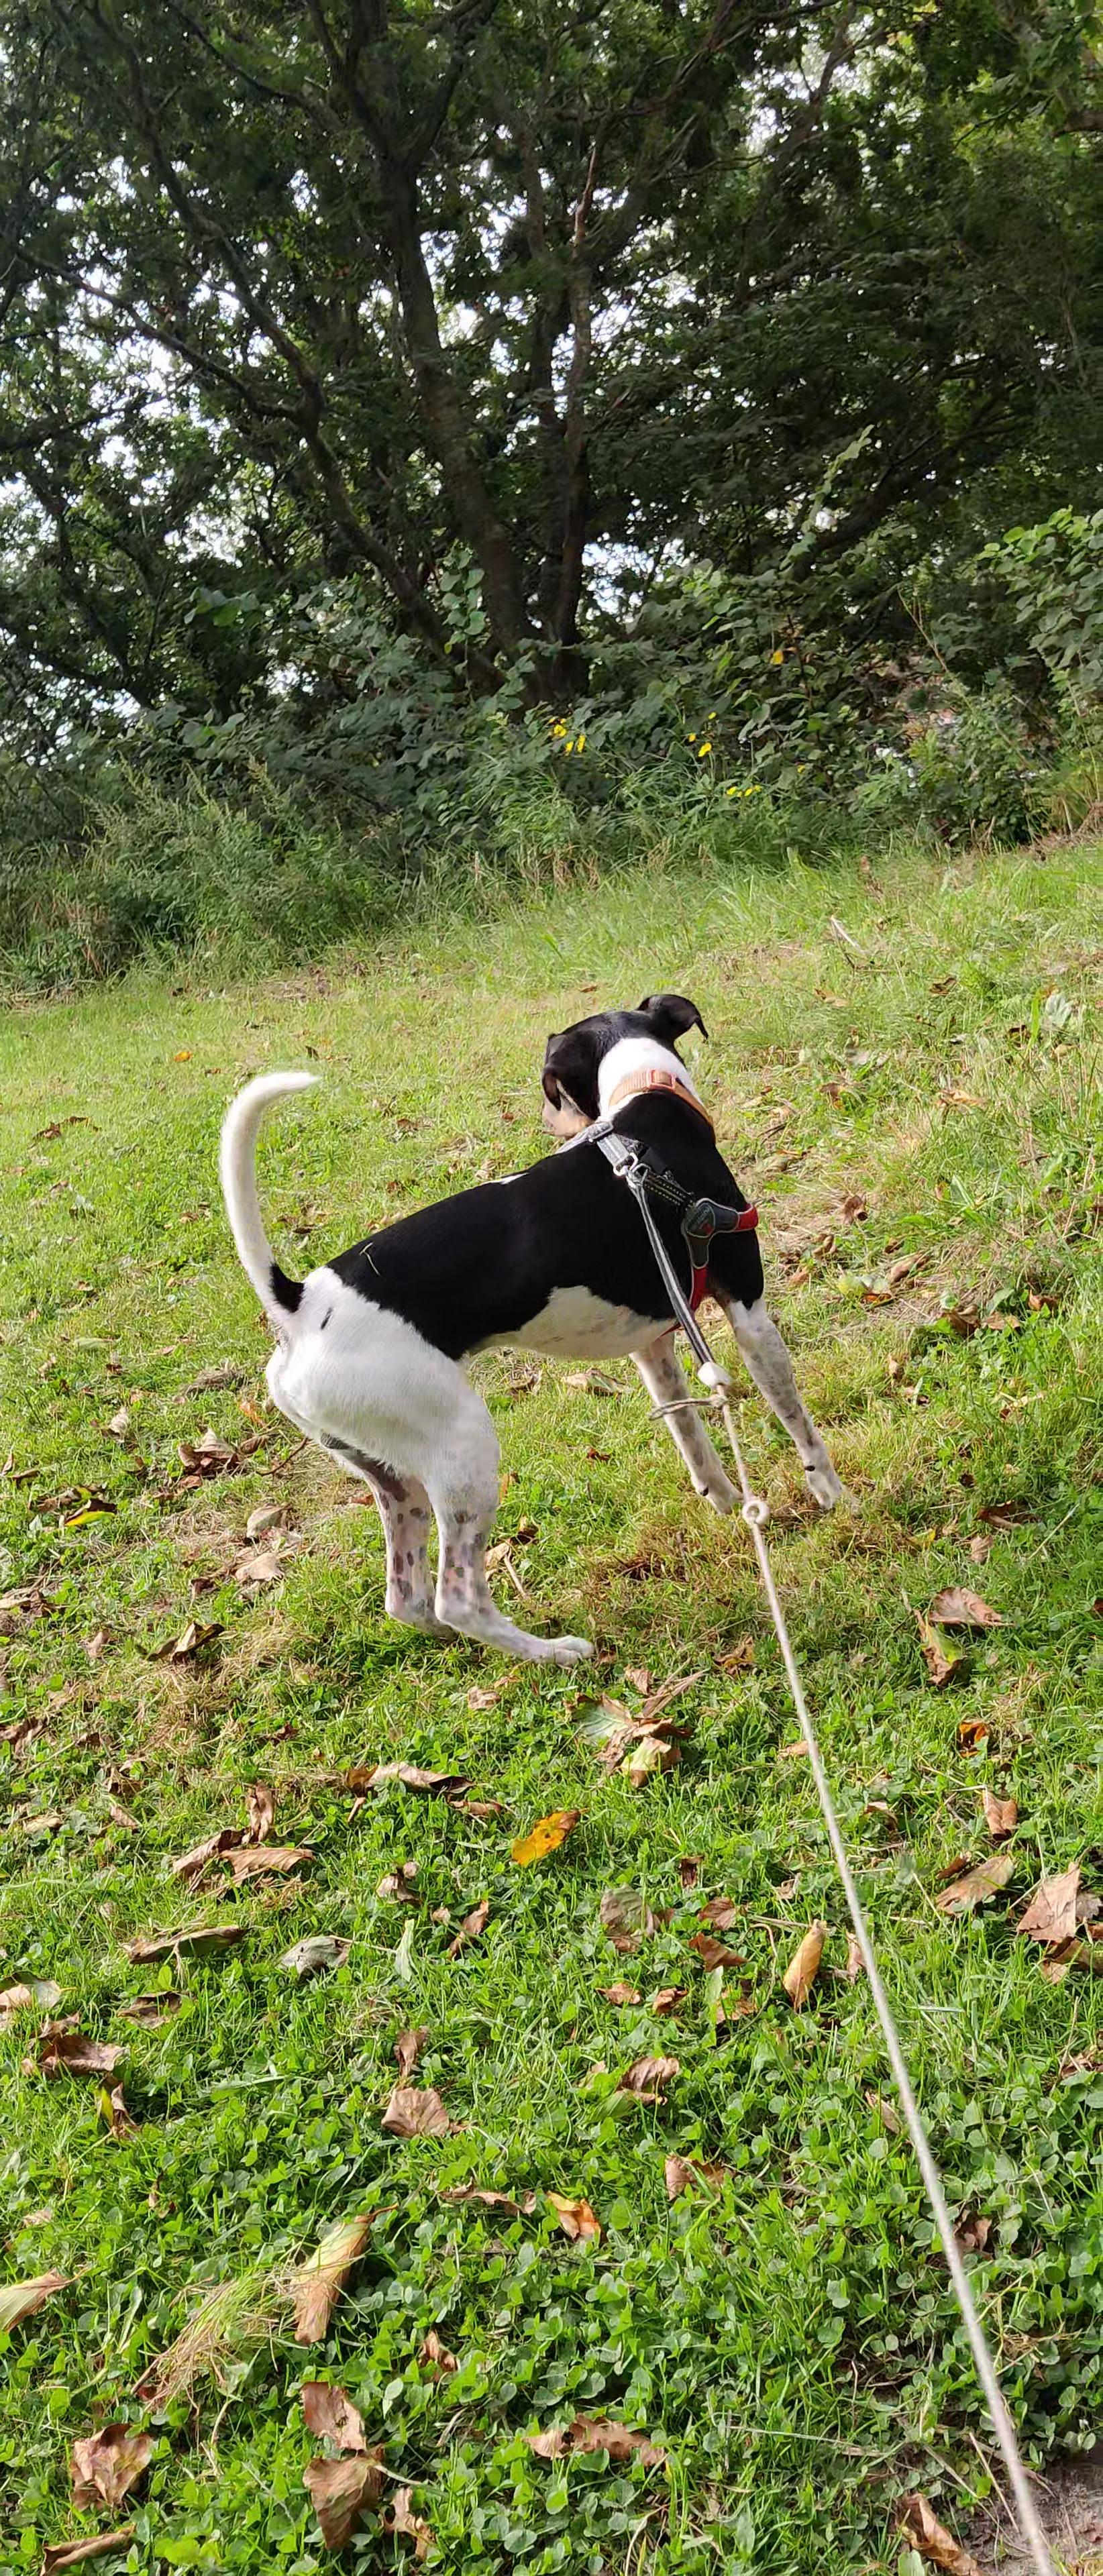Dog: (191, 974, 881, 1672)
